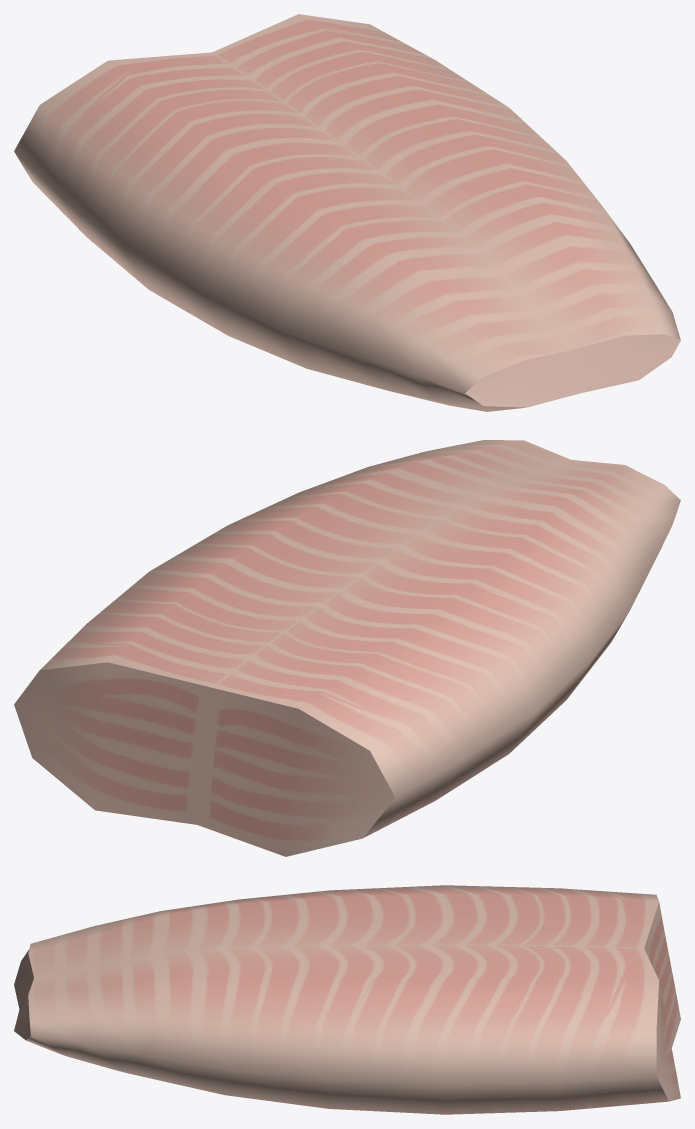
The model's file is Fish_Fillet.fbx.
3 views of the same model, one above another, from view 1: azimuth 30°, elevation 25°; view 2: azimuth 150°, elevation 25°; view 3: azimuth 270°, elevation 25° (orthographic). The views are drawn at different scales.
Visible parts, largest first — view 1: Fish_Fillet; view 2: Fish_Fillet; view 3: Fish_Fillet.
Part boxes in pixels (x1,y1,x2,y2): Fish_Fillet: (14,14,680,411); Fish_Fillet: (14,440,680,856); Fish_Fillet: (14,885,680,1114).
Size of the model in its own units: 0.6064 by 0.2191 by 0.9914.
1 material, 1 textured.
